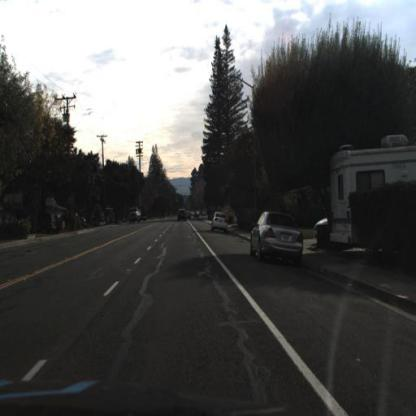car: (249, 210, 306, 267), (312, 204, 335, 245), (212, 213, 230, 231)
truck: (332, 134, 416, 260), (129, 207, 143, 222)
